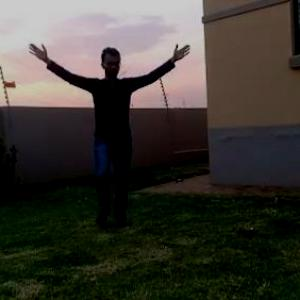takeoff: (1, 6, 186, 248)
